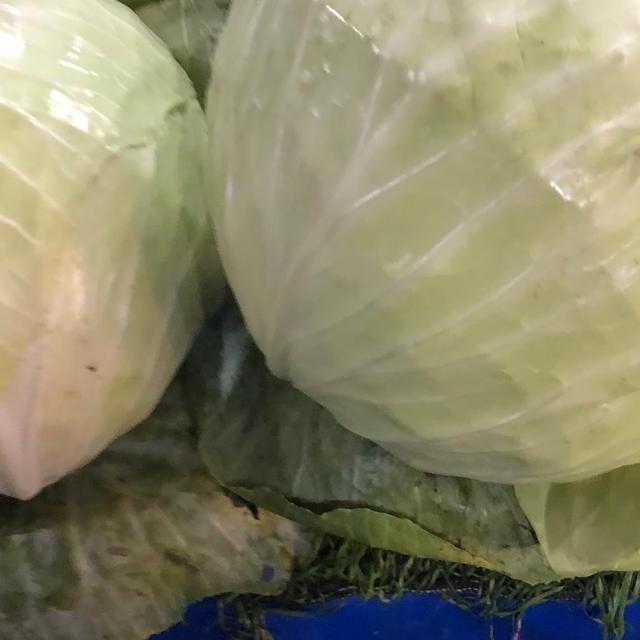cabbage: (187, 0, 640, 505), (0, 0, 227, 525)
